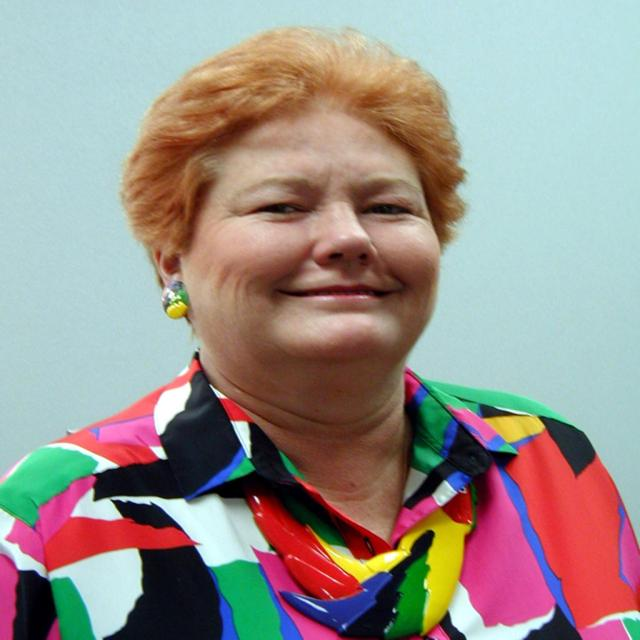Face: (178, 104, 454, 388)
